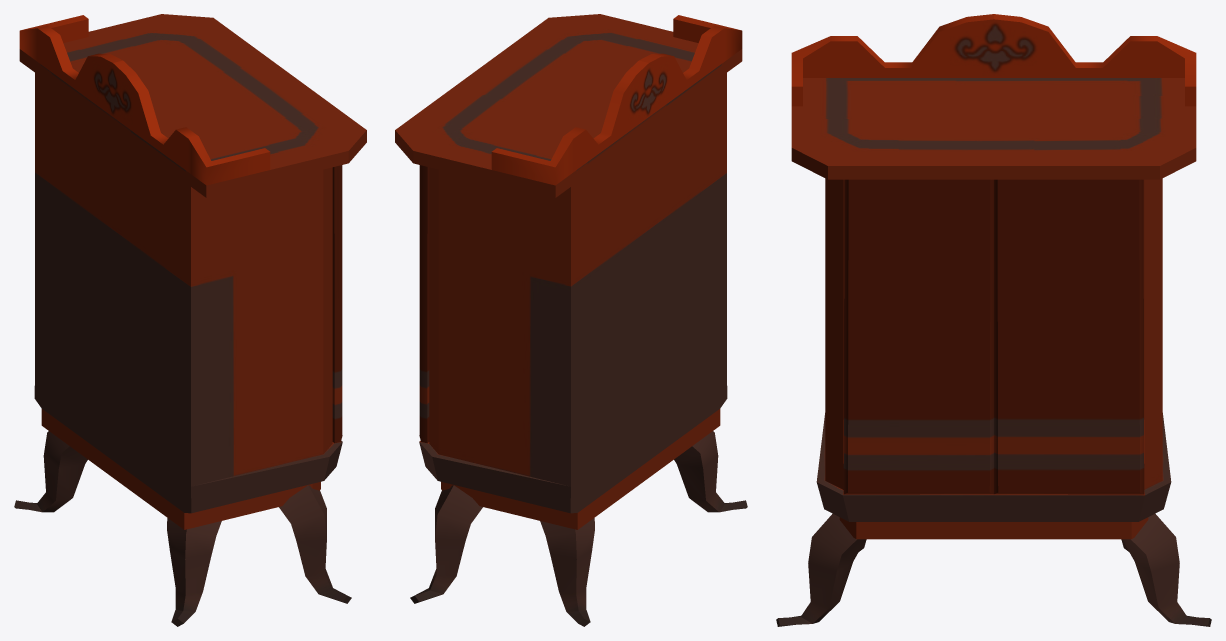
File: VicCabinet.fbx
3 views of the same model, side by side, from view 1: azimuth 30°, elevation 25°; view 2: azimuth 150°, elevation 25°; view 3: azimuth 270°, elevation 25° (orthographic). The views are drawn at different scales.
Visible parts, largest first — view 1: polySurface39, polySurface37; view 2: polySurface39, polySurface38; view 3: polySurface39, polySurface37, polySurface38.
Part boxes in pixels (x1,y1,x2,y2): polySurface39: (14,14,366,626); polySurface37: (332,165,342,443); polySurface39: (395,14,747,626); polySurface38: (419,165,429,443); polySurface39: (776,14,1211,626); polySurface37: (843,179,993,494); polySurface38: (994,179,1144,494).
Bounding box in the file's own units: 1.46 × 3.55 × 2.58.
Materials: 1 (1 with a texture image).
